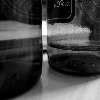beer: (48, 2, 100, 77)
